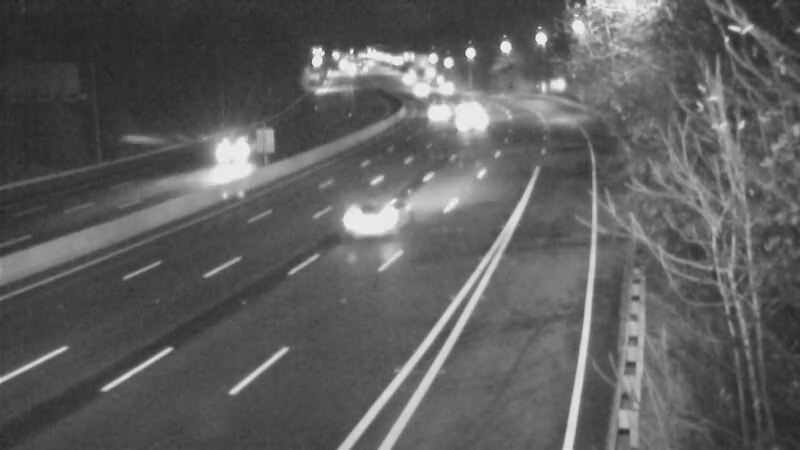vehicle: (327, 183, 407, 263), (416, 61, 466, 111), (392, 64, 442, 114), (441, 84, 491, 134), (415, 87, 465, 137), (440, 97, 490, 147), (211, 119, 261, 169)
